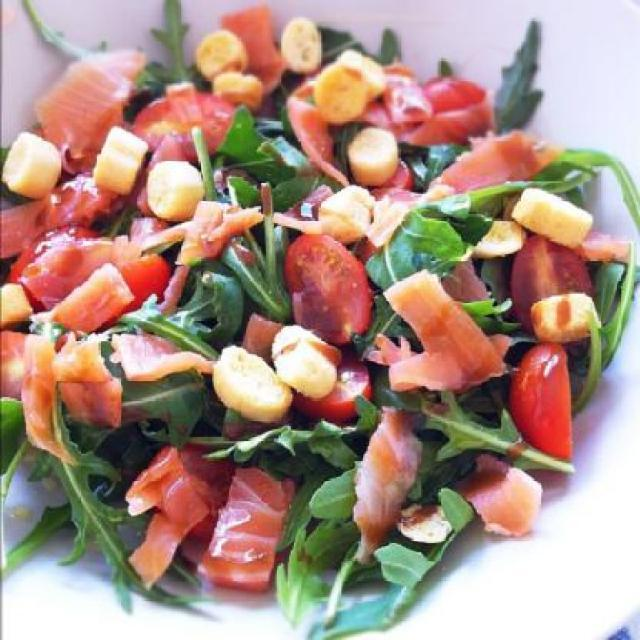Tomato: (120, 452, 228, 594), (198, 465, 304, 593), (3, 215, 126, 314), (284, 233, 370, 353), (509, 229, 591, 337), (127, 84, 233, 165), (390, 78, 498, 152), (520, 341, 586, 452), (290, 358, 366, 429)
